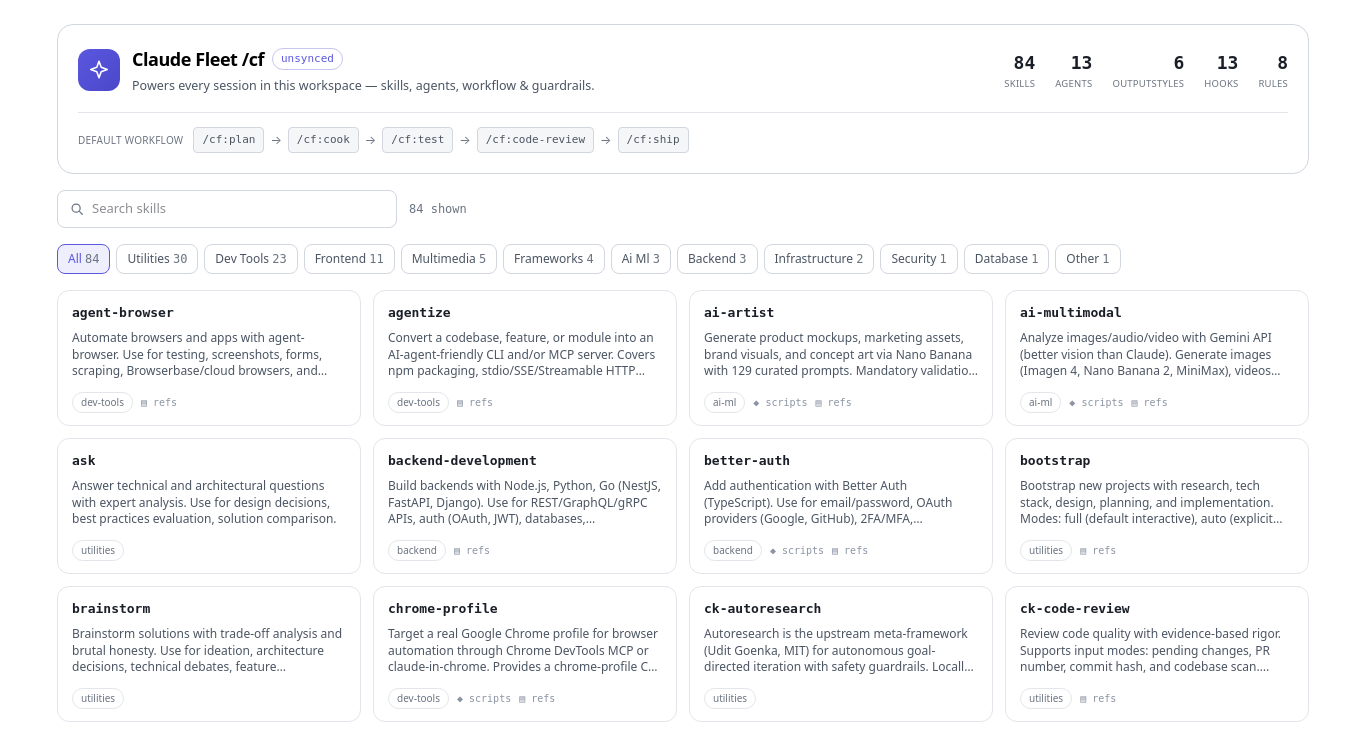
it: the security category chip narrows the grid to that category only
This screenshot has width=1366, height=734.
Click the button with test id "skills-category-security" at [919, 259], box [880,244,958,274]
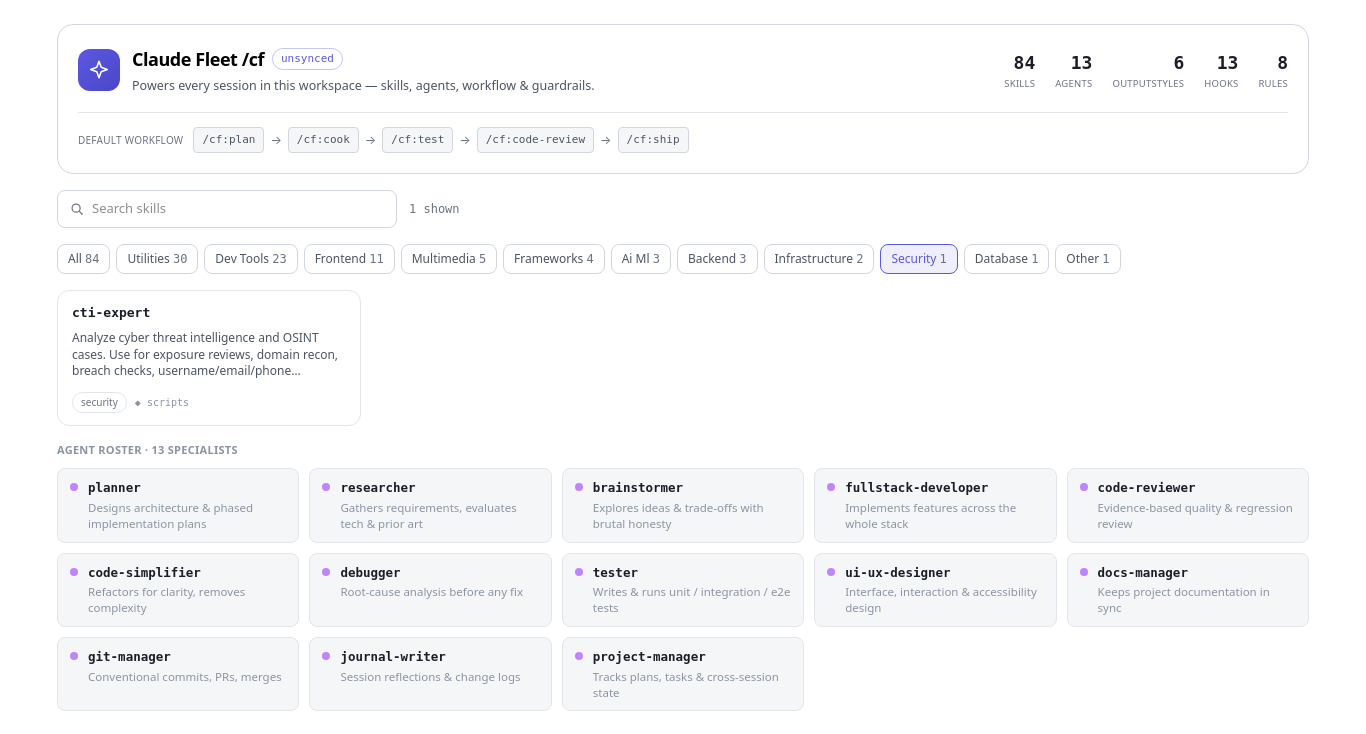
Now the number of buttons with test id "skill-card" is 1, box [57,290,361,426]
